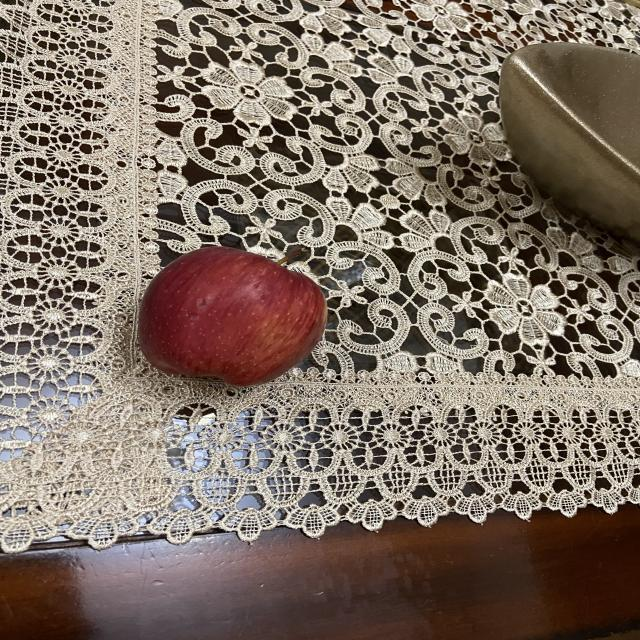apple: (132, 245, 328, 392)
